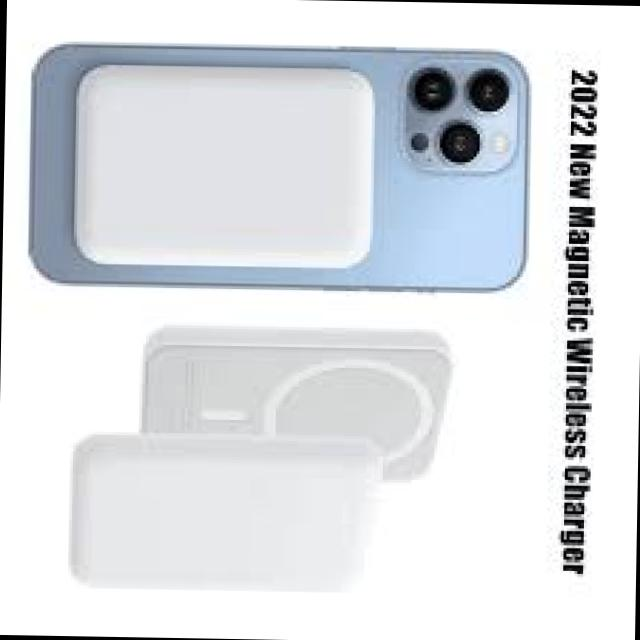power_bank: (59, 54, 384, 280), (68, 424, 376, 604), (129, 320, 457, 484)
